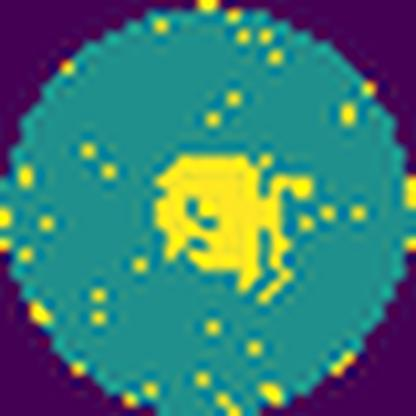Center: (152, 154, 310, 304)
